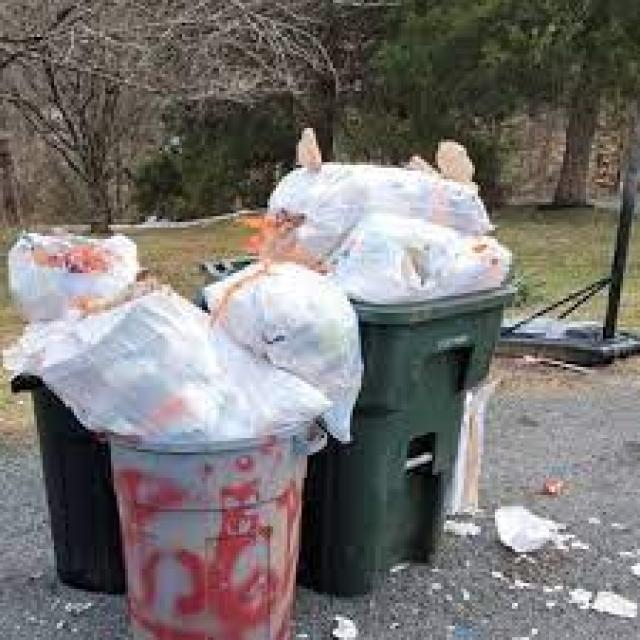plastic: (23, 233, 358, 432), (256, 148, 515, 287)
